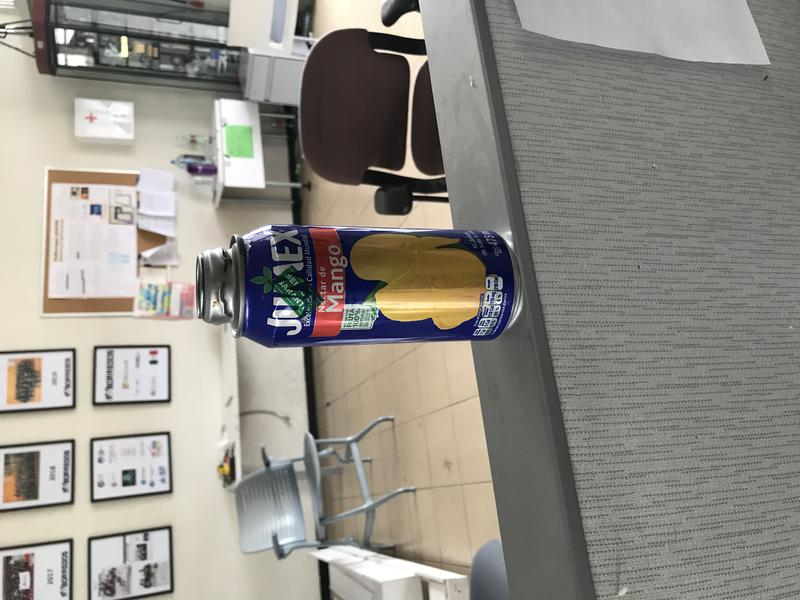jumex_botella: (196, 223, 523, 350)
